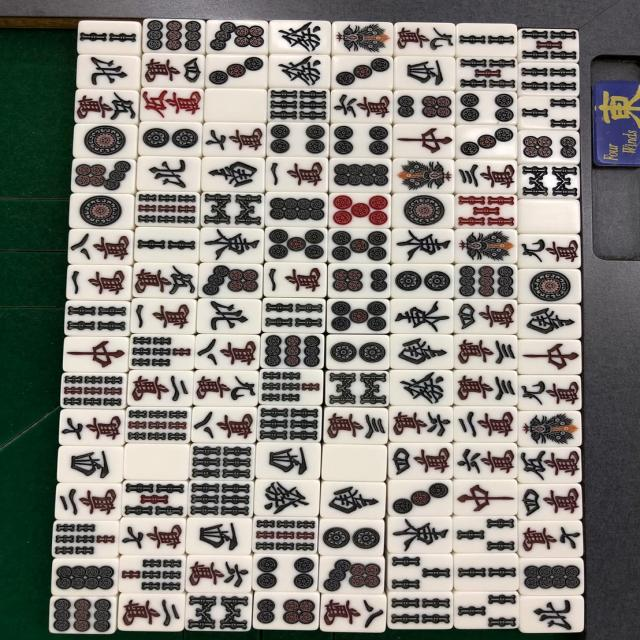bamboos_1: (516, 410, 582, 447), (392, 157, 454, 194), (332, 19, 394, 55), (456, 228, 516, 262)
bamboos_2: (134, 226, 200, 264), (75, 20, 143, 56), (452, 554, 519, 590), (454, 23, 516, 56)
bamboos_3: (387, 554, 457, 591), (452, 592, 518, 630), (454, 518, 518, 554), (518, 95, 578, 130)
bamboos_4: (388, 592, 454, 629), (65, 300, 129, 335), (262, 297, 324, 332), (518, 61, 578, 95)
bamboos_5: (123, 479, 188, 517), (455, 194, 518, 229), (519, 28, 579, 62), (456, 58, 518, 90)
bamboos_6: (258, 403, 324, 442), (188, 479, 252, 519), (189, 443, 253, 481), (267, 88, 330, 122)
bamboos_7: (51, 520, 121, 558), (257, 368, 325, 405), (118, 554, 185, 591), (131, 334, 196, 372)
bamboos_8: (186, 593, 252, 632), (324, 368, 391, 406), (200, 191, 263, 228), (518, 164, 582, 200)
bamboos_9: (135, 190, 203, 227), (60, 371, 126, 408), (126, 404, 190, 442), (254, 516, 318, 554)
characters_1: (129, 296, 195, 332), (67, 264, 131, 300), (265, 156, 329, 192), (265, 261, 325, 296)
characters_2: (118, 592, 186, 630), (53, 482, 121, 519), (131, 368, 194, 405), (454, 406, 516, 442)
characters_3: (453, 368, 516, 406), (324, 407, 388, 444), (454, 334, 516, 370), (456, 158, 516, 194)
characters_4: (386, 442, 454, 479), (144, 51, 207, 88), (518, 484, 582, 520), (454, 297, 516, 332)
characters_5: (138, 86, 205, 123), (517, 448, 583, 482), (74, 89, 138, 124), (134, 262, 198, 297)
characters_6: (186, 554, 252, 592), (454, 442, 516, 479), (331, 88, 394, 124), (388, 407, 451, 443)
characters_7: (120, 518, 185, 555), (58, 409, 124, 444), (518, 520, 582, 556), (202, 122, 266, 156)
characters_8: (320, 593, 387, 632), (190, 406, 256, 444), (192, 333, 259, 368), (68, 230, 133, 266)
characters_9: (195, 370, 258, 406), (518, 233, 582, 268), (519, 375, 580, 410), (393, 23, 456, 56)
circles_1: (67, 192, 133, 230), (72, 123, 138, 160), (518, 268, 582, 303), (393, 192, 452, 228)
circles_2: (317, 517, 384, 556), (322, 334, 390, 369), (139, 121, 202, 156), (391, 264, 455, 298)
circles_3: (386, 479, 453, 517), (204, 52, 266, 90), (455, 126, 517, 160), (332, 57, 392, 89)
circles_4: (255, 552, 320, 591), (329, 122, 392, 159), (266, 122, 329, 157), (455, 91, 517, 125)
circles_5: (328, 192, 392, 230), (265, 224, 328, 261), (328, 227, 390, 264), (328, 298, 388, 333)
circles_6: (250, 591, 319, 629), (396, 89, 456, 124), (329, 264, 389, 298), (519, 130, 579, 164)
circles_7: (319, 556, 387, 594), (197, 262, 262, 300), (71, 157, 135, 192), (203, 20, 268, 54)
circles_8: (518, 558, 582, 595), (51, 560, 120, 594), (265, 190, 328, 227), (330, 158, 389, 194)
circles_9: (50, 595, 118, 632), (455, 262, 517, 299), (260, 333, 325, 368), (145, 18, 205, 52)
east: (198, 227, 265, 264), (388, 516, 455, 553), (389, 228, 453, 262), (392, 300, 453, 334)
green: (253, 478, 317, 518), (389, 369, 453, 406), (267, 21, 330, 55), (268, 55, 332, 88)
north: (137, 154, 201, 192), (521, 595, 585, 633), (196, 299, 262, 335), (76, 56, 141, 90)
red: (451, 479, 519, 515), (392, 122, 458, 159), (517, 338, 582, 373), (64, 338, 130, 372)
south: (201, 156, 267, 194), (319, 481, 385, 519), (516, 304, 580, 338), (391, 333, 452, 368)
west: (55, 445, 123, 482), (253, 442, 320, 479), (188, 518, 251, 554), (392, 56, 454, 90)
white: (320, 443, 386, 481), (203, 86, 269, 123), (125, 442, 189, 479), (517, 198, 579, 232)
